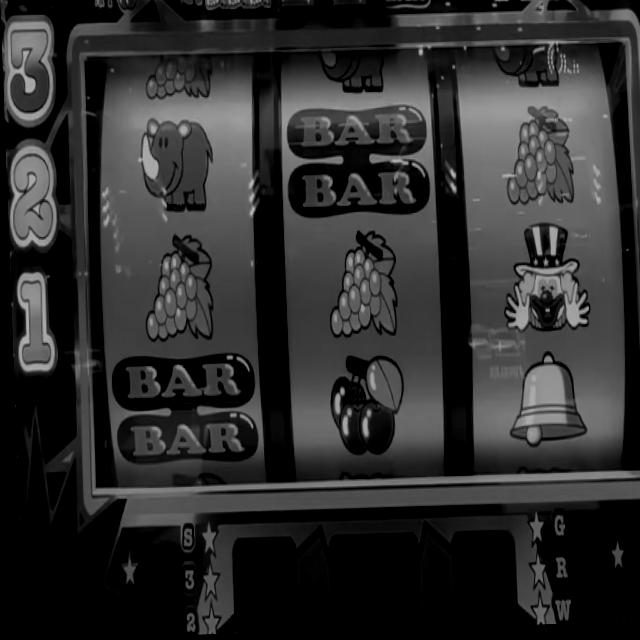bar: (107, 349, 257, 472), (284, 103, 430, 226), (379, 0, 434, 15)
bell: (500, 352, 585, 450)
cherry: (326, 352, 405, 459), (115, 0, 138, 12)
display: (73, 25, 640, 498)
elephant: (137, 117, 215, 213), (512, 0, 538, 9), (485, 0, 512, 8), (537, 0, 559, 5)
grape: (499, 222, 590, 348), (139, 230, 215, 350), (324, 228, 397, 341), (502, 104, 575, 216), (315, 51, 393, 97), (491, 42, 562, 92), (142, 55, 216, 102), (204, 0, 228, 16), (247, 0, 271, 13), (226, 0, 248, 12)
z: (274, 0, 321, 16), (330, 0, 373, 14)
